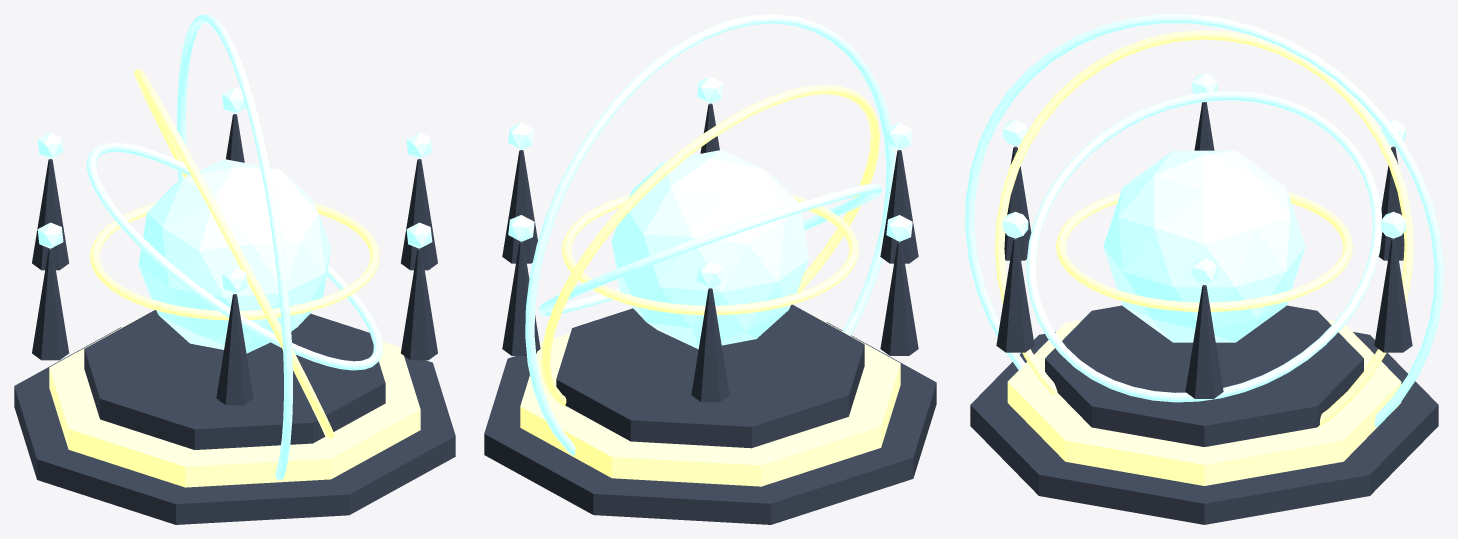
Rendered from gpu-blender-v6.glb.
3 renders of one model, left to right at view 1: azimuth 30°, elevation 25°; view 2: azimuth 150°, elevation 25°; view 3: azimuth 270°, elevation 25°, orthographic. The views are drawn at different scales.
Visible parts, largest first — view 1: Cylinder.002, Cylinder, SovereignCore_zothos-lite, Cylinder.001, Torus.003, Torus.001, Torus.002, Torus, Cone.004, Cone.003, Cone.005, Cone.002 (+7 smaller); view 2: Cylinder.002, SovereignCore_zothos-lite, Cylinder, Cylinder.001, Torus.003, Torus.002, Torus.001, Torus, Cone.002, Cone.003, Cone.001, Cone.004 (+7 smaller); view 3: SovereignCore_zothos-lite, Cylinder.002, Cylinder, Cylinder.001, Torus.003, Torus.001, Torus.002, Torus, Cone.001, Cone.005, Cone, Cone.004 (+3 smaller).
Boxes of the visible parts, x1,y1,x2,y2 form: Cylinder.002: (84,310,385,449); Cylinder: (14,327,455,524); SovereignCore_zothos-lite: (138,159,331,353); Cylinder.001: (49,318,420,487); Torus.003: (177,14,292,480); Torus.001: (87,142,382,370); Torus.002: (134,69,334,438); Torus: (90,203,379,320); Cone.004: (216,294,253,405); Cone.003: (32,249,68,360); Cone.005: (401,249,437,360); Cone.002: (32,159,68,270); Cylinder.002: (556,304,864,448); SovereignCore_zothos-lite: (611,150,809,349); Cylinder: (484,322,936,524); Cylinder.001: (520,313,900,486); Torus.003: (525,14,895,455); Torus.002: (541,84,879,406); Torus.001: (539,183,881,315); Torus: (562,195,858,315); Cone.002: (691,288,729,402); Cone.003: (880,242,918,355); Cone.001: (502,242,540,355); Cone.004: (880,150,918,263); SovereignCore_zothos-lite: (1103,150,1305,342); Cylinder.002: (1045,305,1363,446); Cylinder: (970,332,1438,524); Cylinder.001: (1007,320,1401,485); Torus.003: (965,14,1443,427); Torus.001: (1026,91,1382,402); Torus.002: (995,30,1413,426); Torus: (1056,192,1352,311); Cone.001: (1374,239,1412,352); Cone.005: (996,239,1034,352); Cone: (1185,285,1223,398); Cone.004: (1004,146,1031,260).
Size of the model in its own units: 4.41 by 4.7 by 4.49.
